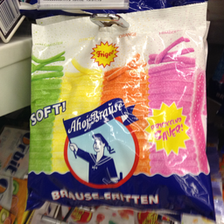candy: (30, 11, 204, 213)
